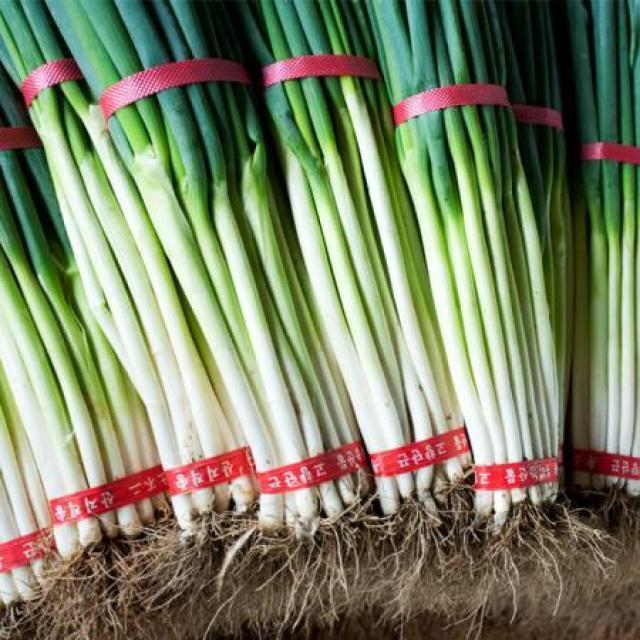green_onion: (83, 0, 363, 539), (249, 0, 473, 534), (377, 0, 561, 515), (564, 0, 640, 514)
